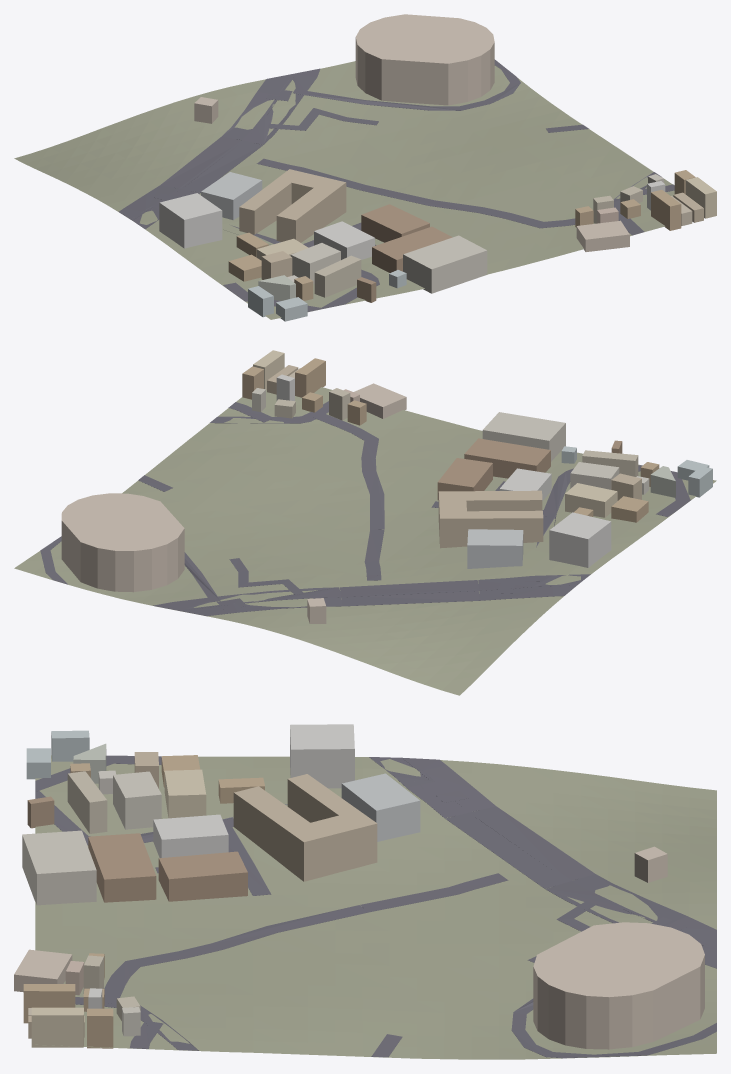
Rendered from chunk_10_1.glb.
The picture shows the model from 3 angles, top to bottom: view 1: azimuth 30°, elevation 25°; view 2: azimuth 150°, elevation 25°; view 3: azimuth 270°, elevation 25°; orthographic projection. The views are drawn at different scales.
Parts seen in each view (by area): view 1: geometry_35, geometry_33, geometry_8, geometry_30, geometry_6, geometry_0, geometry_3, geometry_29, geometry_48, geometry_7, geometry_49, geometry_25 (+19 smaller); view 2: geometry_35, geometry_33, geometry_8, geometry_6, geometry_30, geometry_0, geometry_29, geometry_48, geometry_44, geometry_3, geometry_43, geometry_28 (+21 smaller); view 3: geometry_35, geometry_33, geometry_8, geometry_30, geometry_29, geometry_3, geometry_6, geometry_0, geometry_48, geometry_7, geometry_44, geometry_43 (+27 smaller).
Part boxes in pixels (x1,y1,x2,y2): geometry_35: (14,61,674,319); geometry_33: (355,14,494,105); geometry_8: (239,169,346,242); geometry_30: (403,235,487,293); geometry_6: (159,193,222,248); geometry_0: (201,172,262,219); geometry_3: (361,204,429,242); geometry_29: (372,226,452,272); geometry_48: (359,185,575,228); geometry_7: (314,221,374,259); geometry_49: (293,59,520,110); geometry_25: (314,255,361,297); geometry_35: (14,387,716,695); geometry_33: (61,493,184,592); geometry_8: (438,490,543,548); geometry_6: (549,512,611,567); geometry_30: (482,412,565,461); geometry_0: (467,529,523,568); geometry_29: (464,438,550,478); geometry_48: (311,412,384,529); geometry_44: (340,580,478,597); geometry_3: (437,458,492,500); geometry_43: (341,589,479,606); geometry_28: (565,483,617,517); geometry_35: (35,755,716,1059); geometry_33: (533,922,704,1049); geometry_8: (233,774,377,881); geometry_30: (22,830,96,905); geometry_29: (88,833,156,902); geometry_3: (158,851,247,901); geometry_6: (290,724,354,788); geometry_0: (341,773,420,841); geometry_48: (104,905,368,1003); geometry_7: (153,814,228,857); geometry_44: (445,811,571,888); geometry_43: (470,806,594,880).
Bounding box in the file's own units: 252 × 29.5 × 258.
